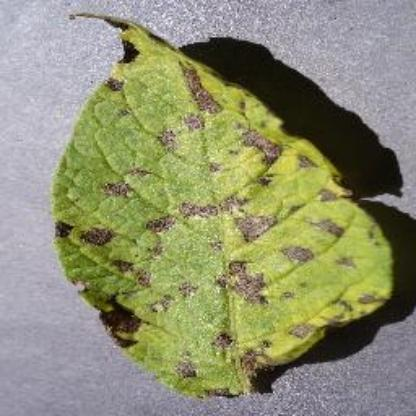Early-Blight: (45, 0, 411, 402)
